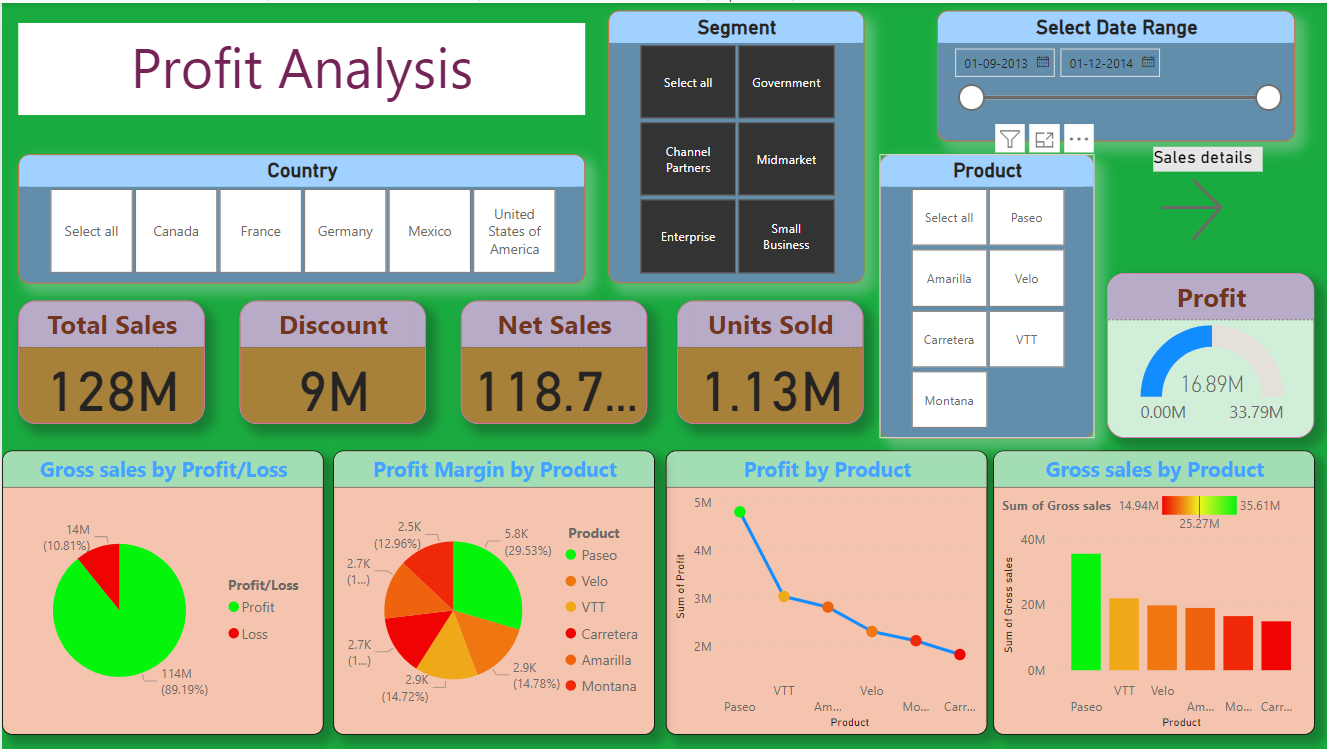

Layout of this report page (visuals, bound fields, positions):
{"tool":"powerbi","page":{"name":"Profit","canvas":[1280,720],"ordinal":0},"visuals":[{"type":"card","title":"Total Sales","fields":{"Values":["Financial Sample xlsx - Sheet1.Total Gross Sales"]},"box":[15.1,286.8,179.8,119.4],"z":1},{"type":"card","title":"Units Sold","fields":{"Values":["Financial Sample xlsx - Sheet1.Total Units Sold"]},"box":[651.8,286.8,179.8,119.4],"z":2},{"type":"card","title":"Discount","fields":{"Values":["Financial Sample xlsx - Sheet1.Total Discount"]},"box":[229.2,286.8,179.8,119.4],"z":4},{"type":"card","title":"Net Sales","fields":{"Values":["Financial Sample xlsx - Sheet1.Total net sales"]},"box":[443.2,286.8,179.8,119.4],"z":5},{"type":"gauge","title":" Profit","fields":{"Y":["Sum(Financial Sample xlsx - Sheet1.Profit)"]},"box":[1066.2,260.7,200.3,159.2],"z":6},{"type":"pieChart","title":"Gross sales by Profit/Loss","fields":{"Category":["Financial Sample xlsx - Sheet1.Profit/Loss"],"Y":["Sum(Financial Sample xlsx - Sheet1.Gross sales)"]},"box":[0,432.2,310.1,274.4],"z":7},{"type":"lineChart","title":"Profit by  Product ","fields":{"Y":["Sum(Financial Sample xlsx - Sheet1.Profit)"],"Category":["Financial Sample xlsx - Sheet1. Product "]},"box":[640.8,432.2,310.1,274.4],"z":8},{"type":"slicer","title":"Segment","fields":{"Values":["Financial Sample xlsx - Sheet1.Segment"]},"box":[584.6,6.9,247,263.5],"z":11},{"type":"slicer","title":"Select Date Range","fields":{"Values":["Financial Sample xlsx - Sheet1.Date"]},"box":[902.9,6.9,345.8,126.2],"z":12},{"type":"columnChart","title":"Gross sales by  Product ","fields":{"Y":["Sum(Financial Sample xlsx - Sheet1.Gross sales)"],"Category":["Financial Sample xlsx - Sheet1. Product "]},"box":[956.4,432.2,310.1,274.4],"z":13},{"type":"slicer","title":"Product","fields":{"Values":["Financial Sample xlsx - Sheet1. Product "]},"box":[846.7,145.5,207.2,274.4],"z":14},{"type":"slicer","title":"Country","fields":{"Values":["Financial Sample xlsx - Sheet1.Country"]},"box":[15.1,145.5,547.5,124.9],"z":15},{"type":"pieChart","fields":{"Y":["Sum(Financial Sample xlsx - Sheet1.Profit Margin)"],"Category":["Financial Sample xlsx - Sheet1. Product "]},"box":[319.7,432.2,310.1,274.4],"z":16},{"type":"textbox","box":[15.1,19.2,547.5,89.2],"z":17},{"type":"actionButton","title":"Sales details","box":[1111.5,138.6,105.7,97.4],"z":18}]}

Visuals, with their boxes in screenshot pixels (x1, y1, x2, y2), scaled from the page's 1280x720 canvas onto the 1327x749 screenshot:
"Total Sales" card: x1=16, y1=298, x2=202, y2=423
"Units Sold" card: x1=676, y1=298, x2=862, y2=423
"Discount" card: x1=238, y1=298, x2=424, y2=423
"Net Sales" card: x1=459, y1=298, x2=646, y2=423
" Profit" gauge: x1=1105, y1=271, x2=1313, y2=437
"Gross sales by Profit/Loss" pieChart: x1=0, y1=450, x2=321, y2=735
"Profit by  Product " lineChart: x1=664, y1=450, x2=986, y2=735
"Segment" slicer: x1=606, y1=7, x2=862, y2=281
"Select Date Range" slicer: x1=936, y1=7, x2=1295, y2=138
"Gross sales by  Product " columnChart: x1=992, y1=450, x2=1313, y2=735
"Product" slicer: x1=878, y1=151, x2=1093, y2=437
"Country" slicer: x1=16, y1=151, x2=583, y2=281
pieChart - Sum(Financial Sample xlsx - Sheet1.Profit Margin) x Financial Sample xlsx - Sheet1. Product : x1=331, y1=450, x2=653, y2=735
textbox: x1=16, y1=20, x2=583, y2=113
"Sales details" actionButton: x1=1152, y1=144, x2=1262, y2=246
